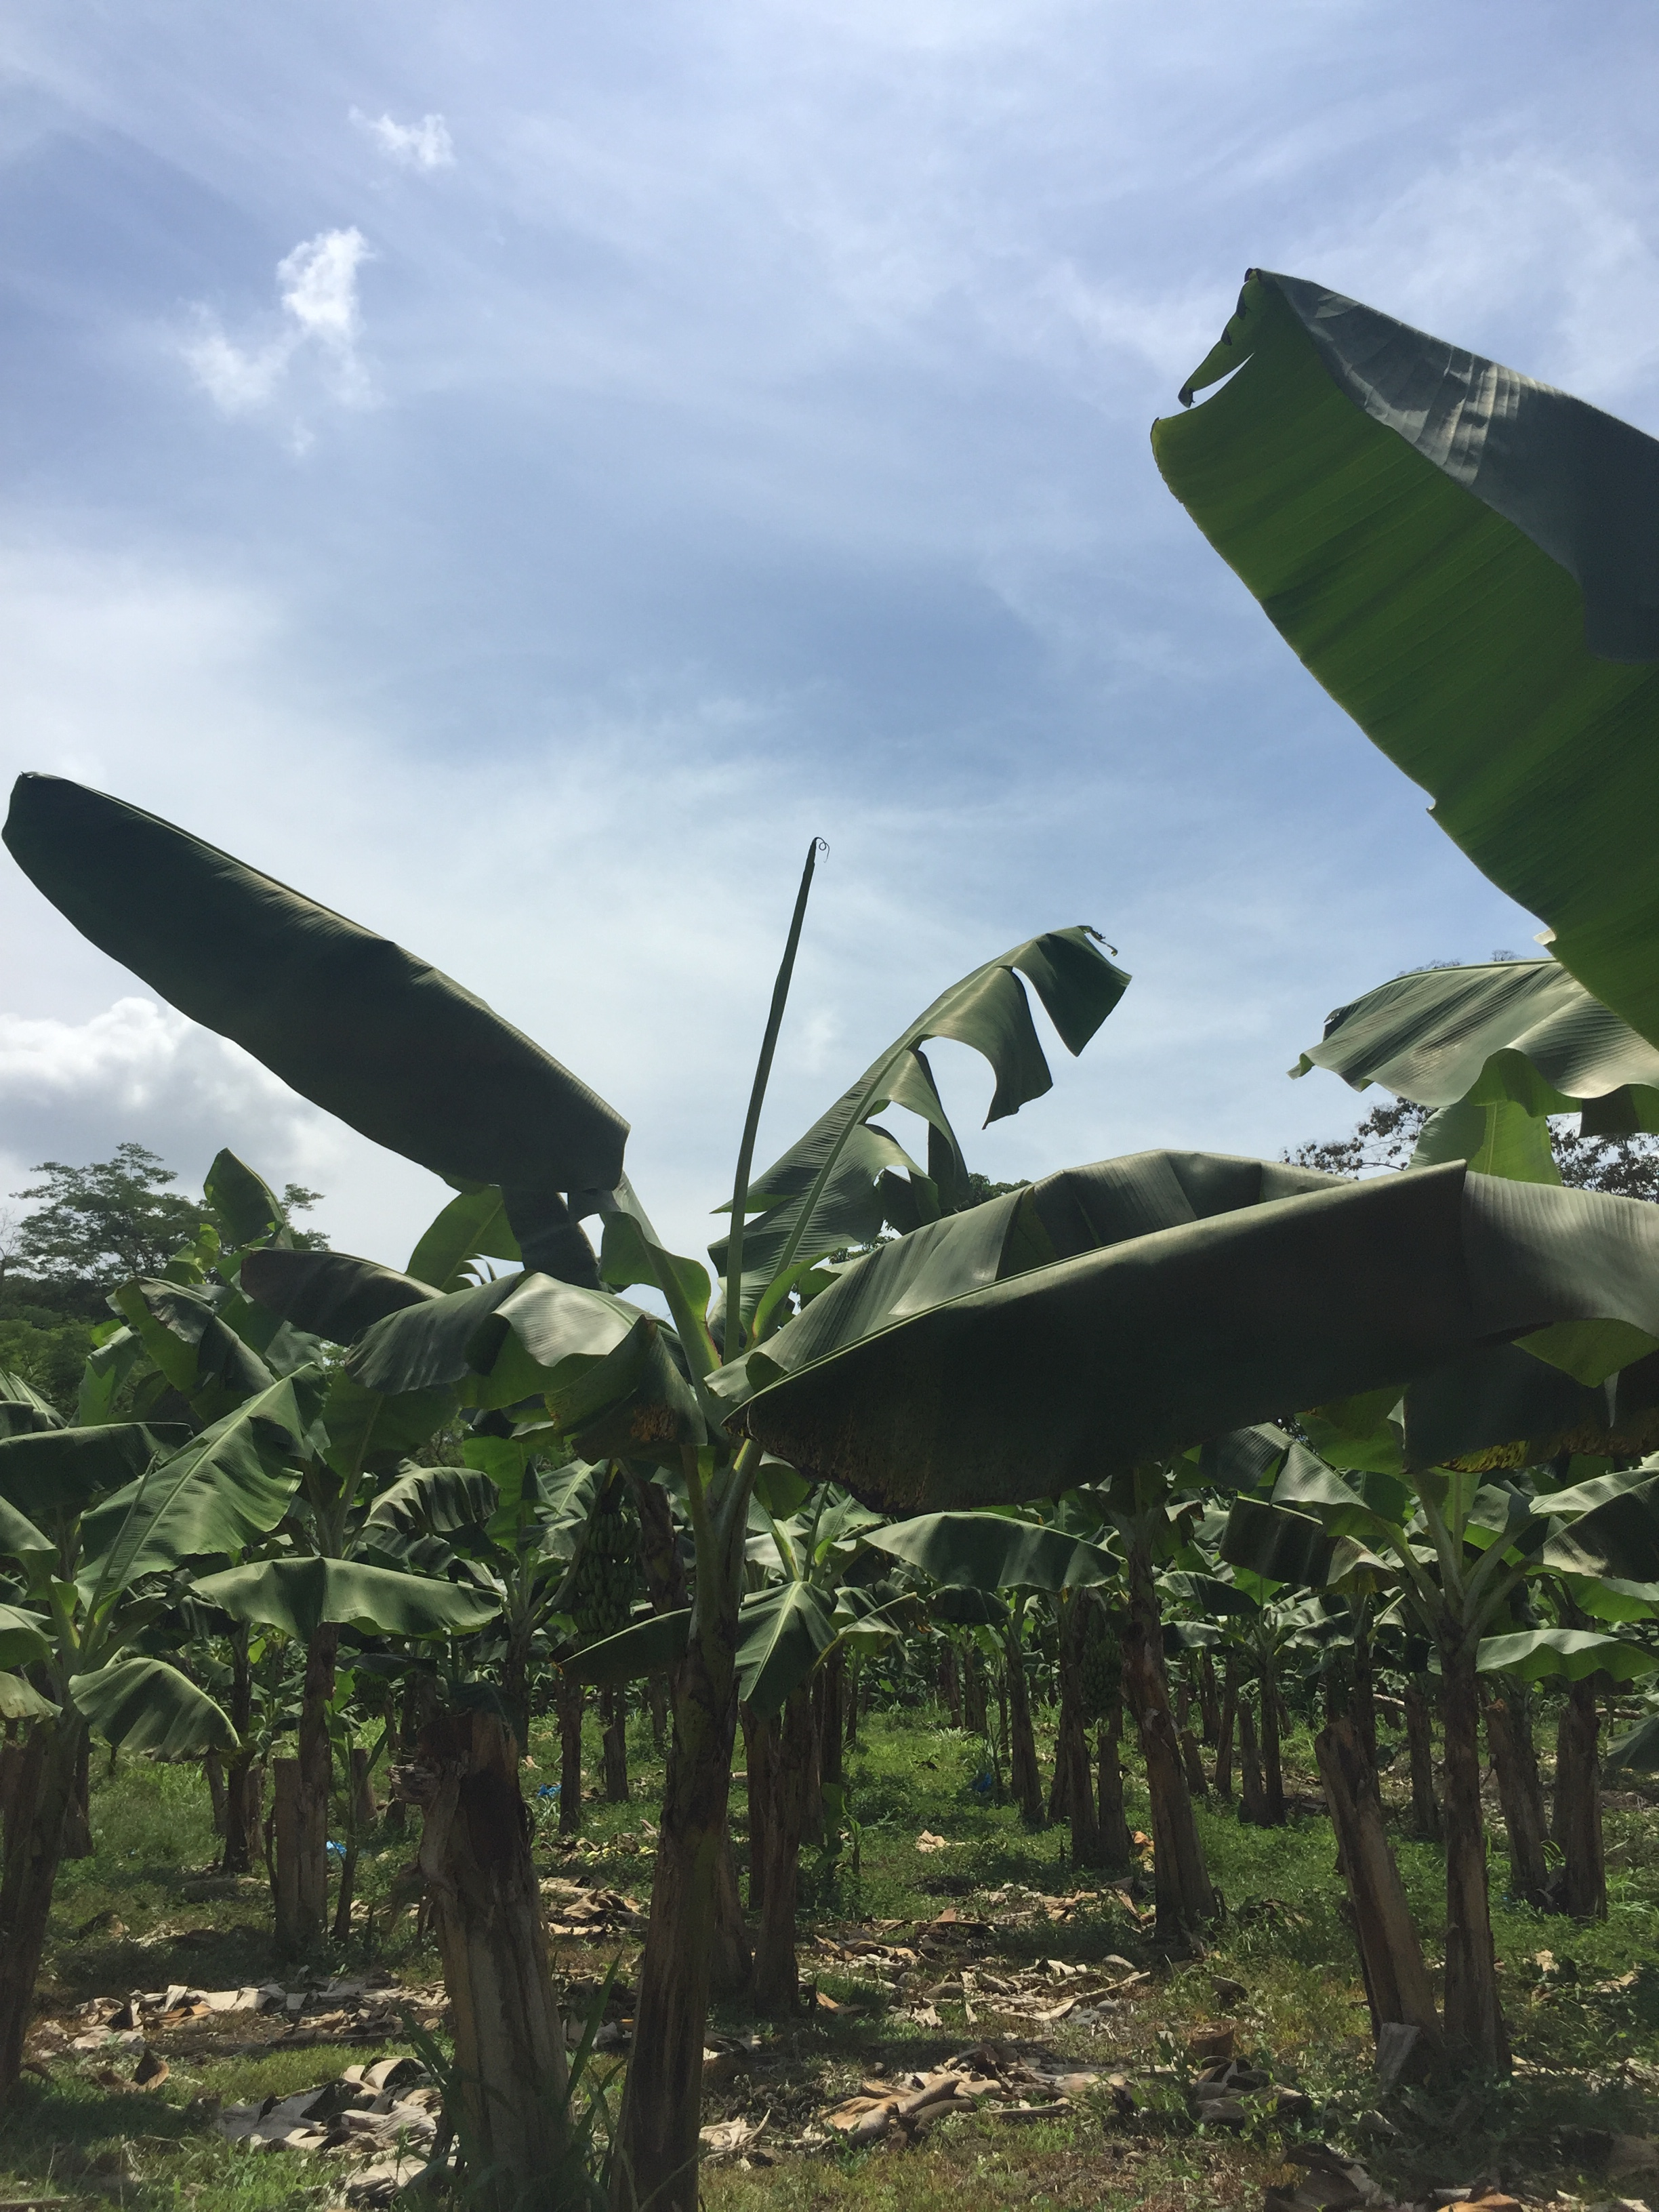candleleafs: (725, 836, 833, 1357), (77, 1447, 162, 1672)
